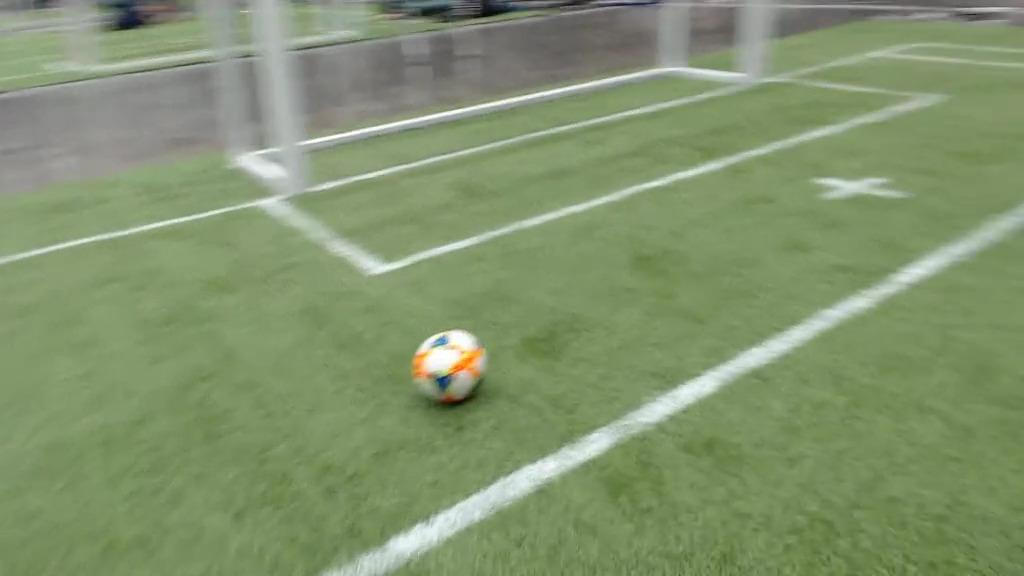ball: (414, 330, 489, 406)
